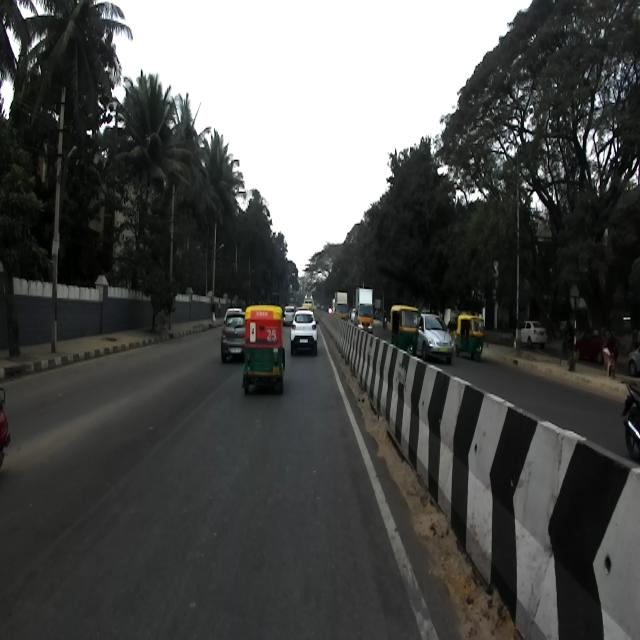auto ahead at: (244, 304, 286, 394)
car ahead at: (292, 306, 320, 354)
electric pole ahead at: (46, 80, 71, 367)
